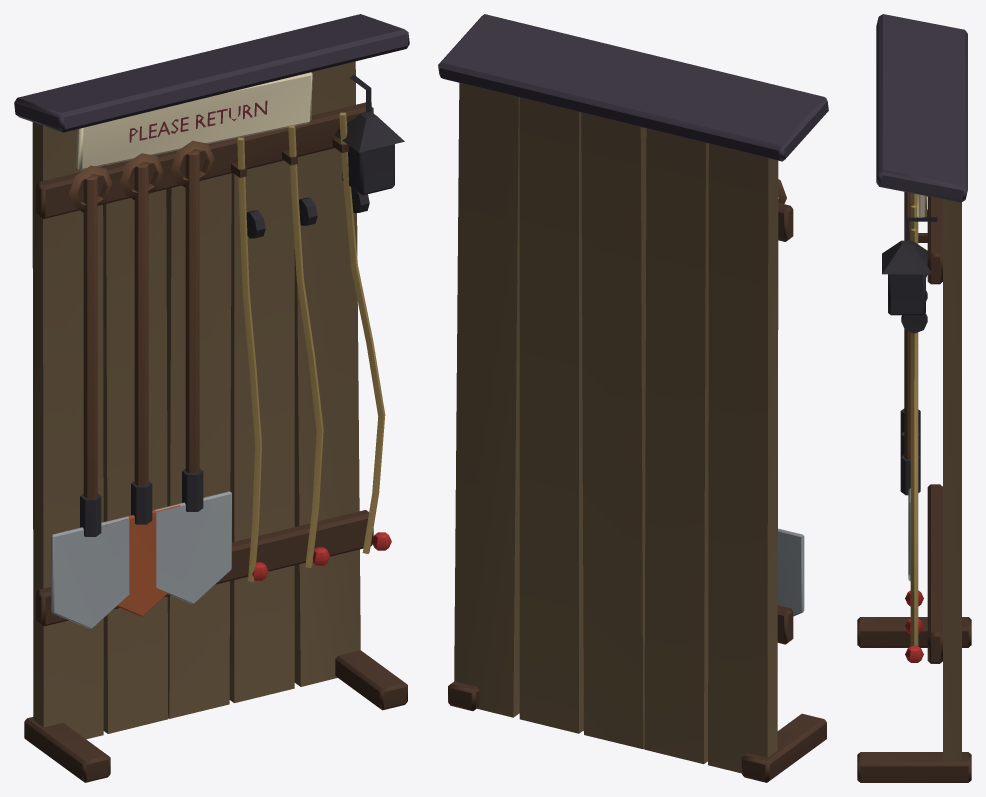
Rendered from rack_tools.glb.
3 renders of one model, left to right at view 1: azimuth 30°, elevation 25°; view 2: azimuth 150°, elevation 25°; view 3: azimuth 270°, elevation 25°, orthographic. The views are drawn at different scales.
Visible parts, largest first — view 1: rack_tools, shovel_0, shovel_2, shovel_1, rod_1, rod_0, rod_2, sign; view 2: rack_tools, shovel_0; view 3: rack_tools, rod_2, shovel_2, rod_1, rod_0.
Boxes of the visible parts, bbox=[...] form: rack_tools: bbox=[14, 14, 409, 782]; shovel_0: bbox=[51, 165, 129, 628]; shovel_2: bbox=[155, 140, 231, 603]; shovel_1: bbox=[105, 153, 179, 616]; rod_1: bbox=[288, 125, 330, 567]; rod_0: bbox=[237, 137, 268, 582]; rod_2: bbox=[339, 112, 391, 553]; sign: bbox=[129, 100, 267, 142]; rack_tools: bbox=[438, 14, 828, 782]; shovel_0: bbox=[777, 179, 804, 616]; rack_tools: bbox=[857, 14, 971, 782]; rod_2: bbox=[901, 228, 927, 662]; shovel_2: bbox=[900, 192, 920, 581]; rod_1: bbox=[905, 205, 927, 634]; rod_0: bbox=[905, 193, 927, 606].
Bounding box in the file's own units: 0.99 × 1.79 × 0.3.
